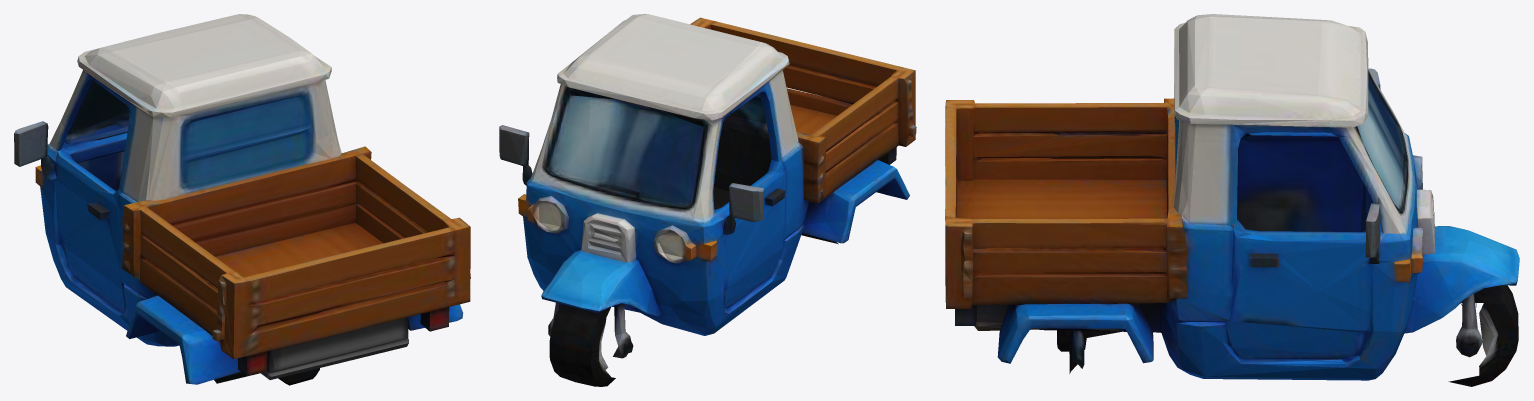
The model's file is cs_v_ape.glb.
The picture shows the model from 3 angles, left to right: view 1: azimuth 30°, elevation 25°; view 2: azimuth 150°, elevation 25°; view 3: azimuth 270°, elevation 25°; orthographic projection. The views are drawn at different scales.
Parts seen in each view (by area): view 1: v_ape; view 2: v_ape; view 3: v_ape.
Part boxes in pixels (x1,y1,x2,y2): v_ape: [14, 14, 470, 385]; v_ape: [499, 14, 916, 386]; v_ape: [945, 14, 1519, 386].
Size of the model in its own units: 1.91 by 1.88 by 3.
Materials: 1 (1 with a texture image).
